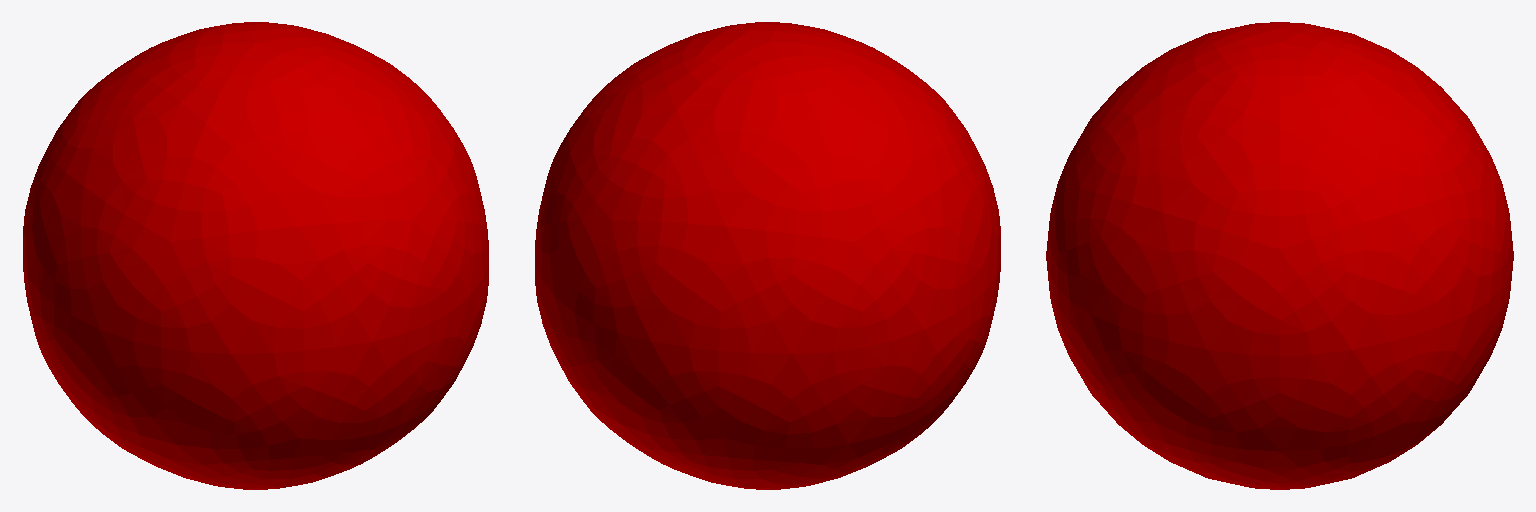
The model's file is easySphere.obj.
The picture shows the model from 3 angles: view 1: azimuth 30°, elevation 25°; view 2: azimuth 150°, elevation 25°; view 3: azimuth 270°, elevation 25°; orthographic projection.
Visible parts, largest first — view 1: Icosphere; view 2: Icosphere; view 3: Icosphere.
Part boxes in pixels (x1,y1,x2,y2): Icosphere: (23, 22, 488, 489); Icosphere: (535, 22, 1000, 489); Icosphere: (1046, 22, 1513, 489).
Bounding box in the file's own units: 1.85 × 1.86 × 1.85.